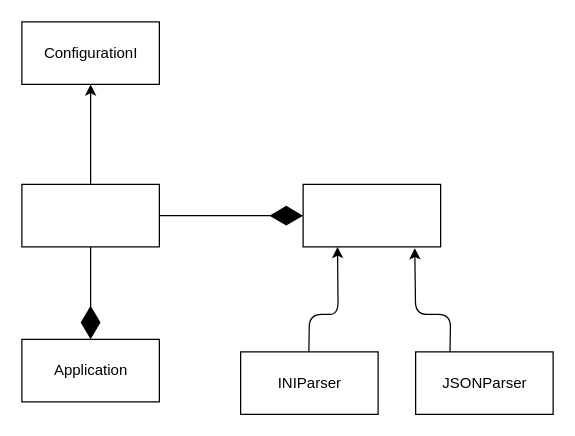
The diagram is 575 pixels wide and 436 high, and some of its shapes have lost their labels. The shapes that lost their labels are listed below. From the top down, each one's box as (x1, y1, x2, y2) in pixels, then its label:
(21, 183, 159, 247): Configuration
(302, 183, 441, 247): ParserI
